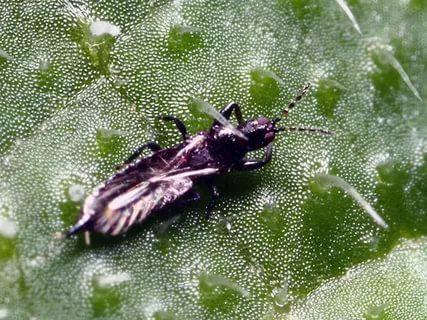tiny_pests: (39, 66, 370, 267)
